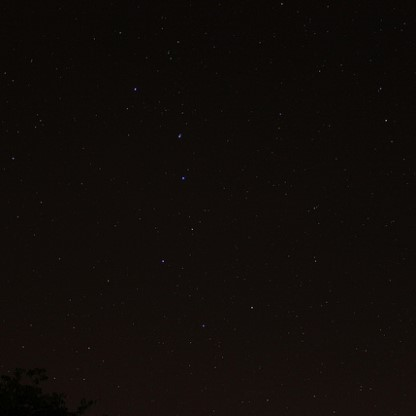Ursa Major: (126, 77, 152, 102), (190, 317, 219, 336), (168, 125, 192, 147), (183, 218, 202, 240), (241, 297, 259, 318), (173, 170, 191, 186), (154, 250, 169, 268)
